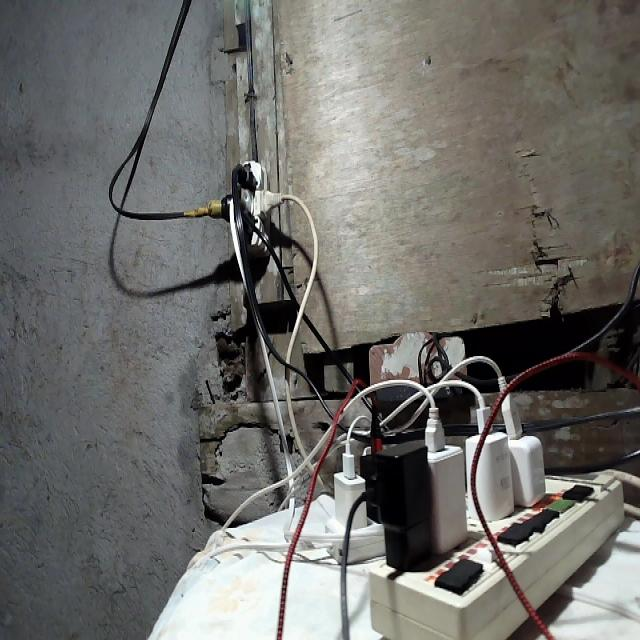-: (206, 155, 284, 249)
